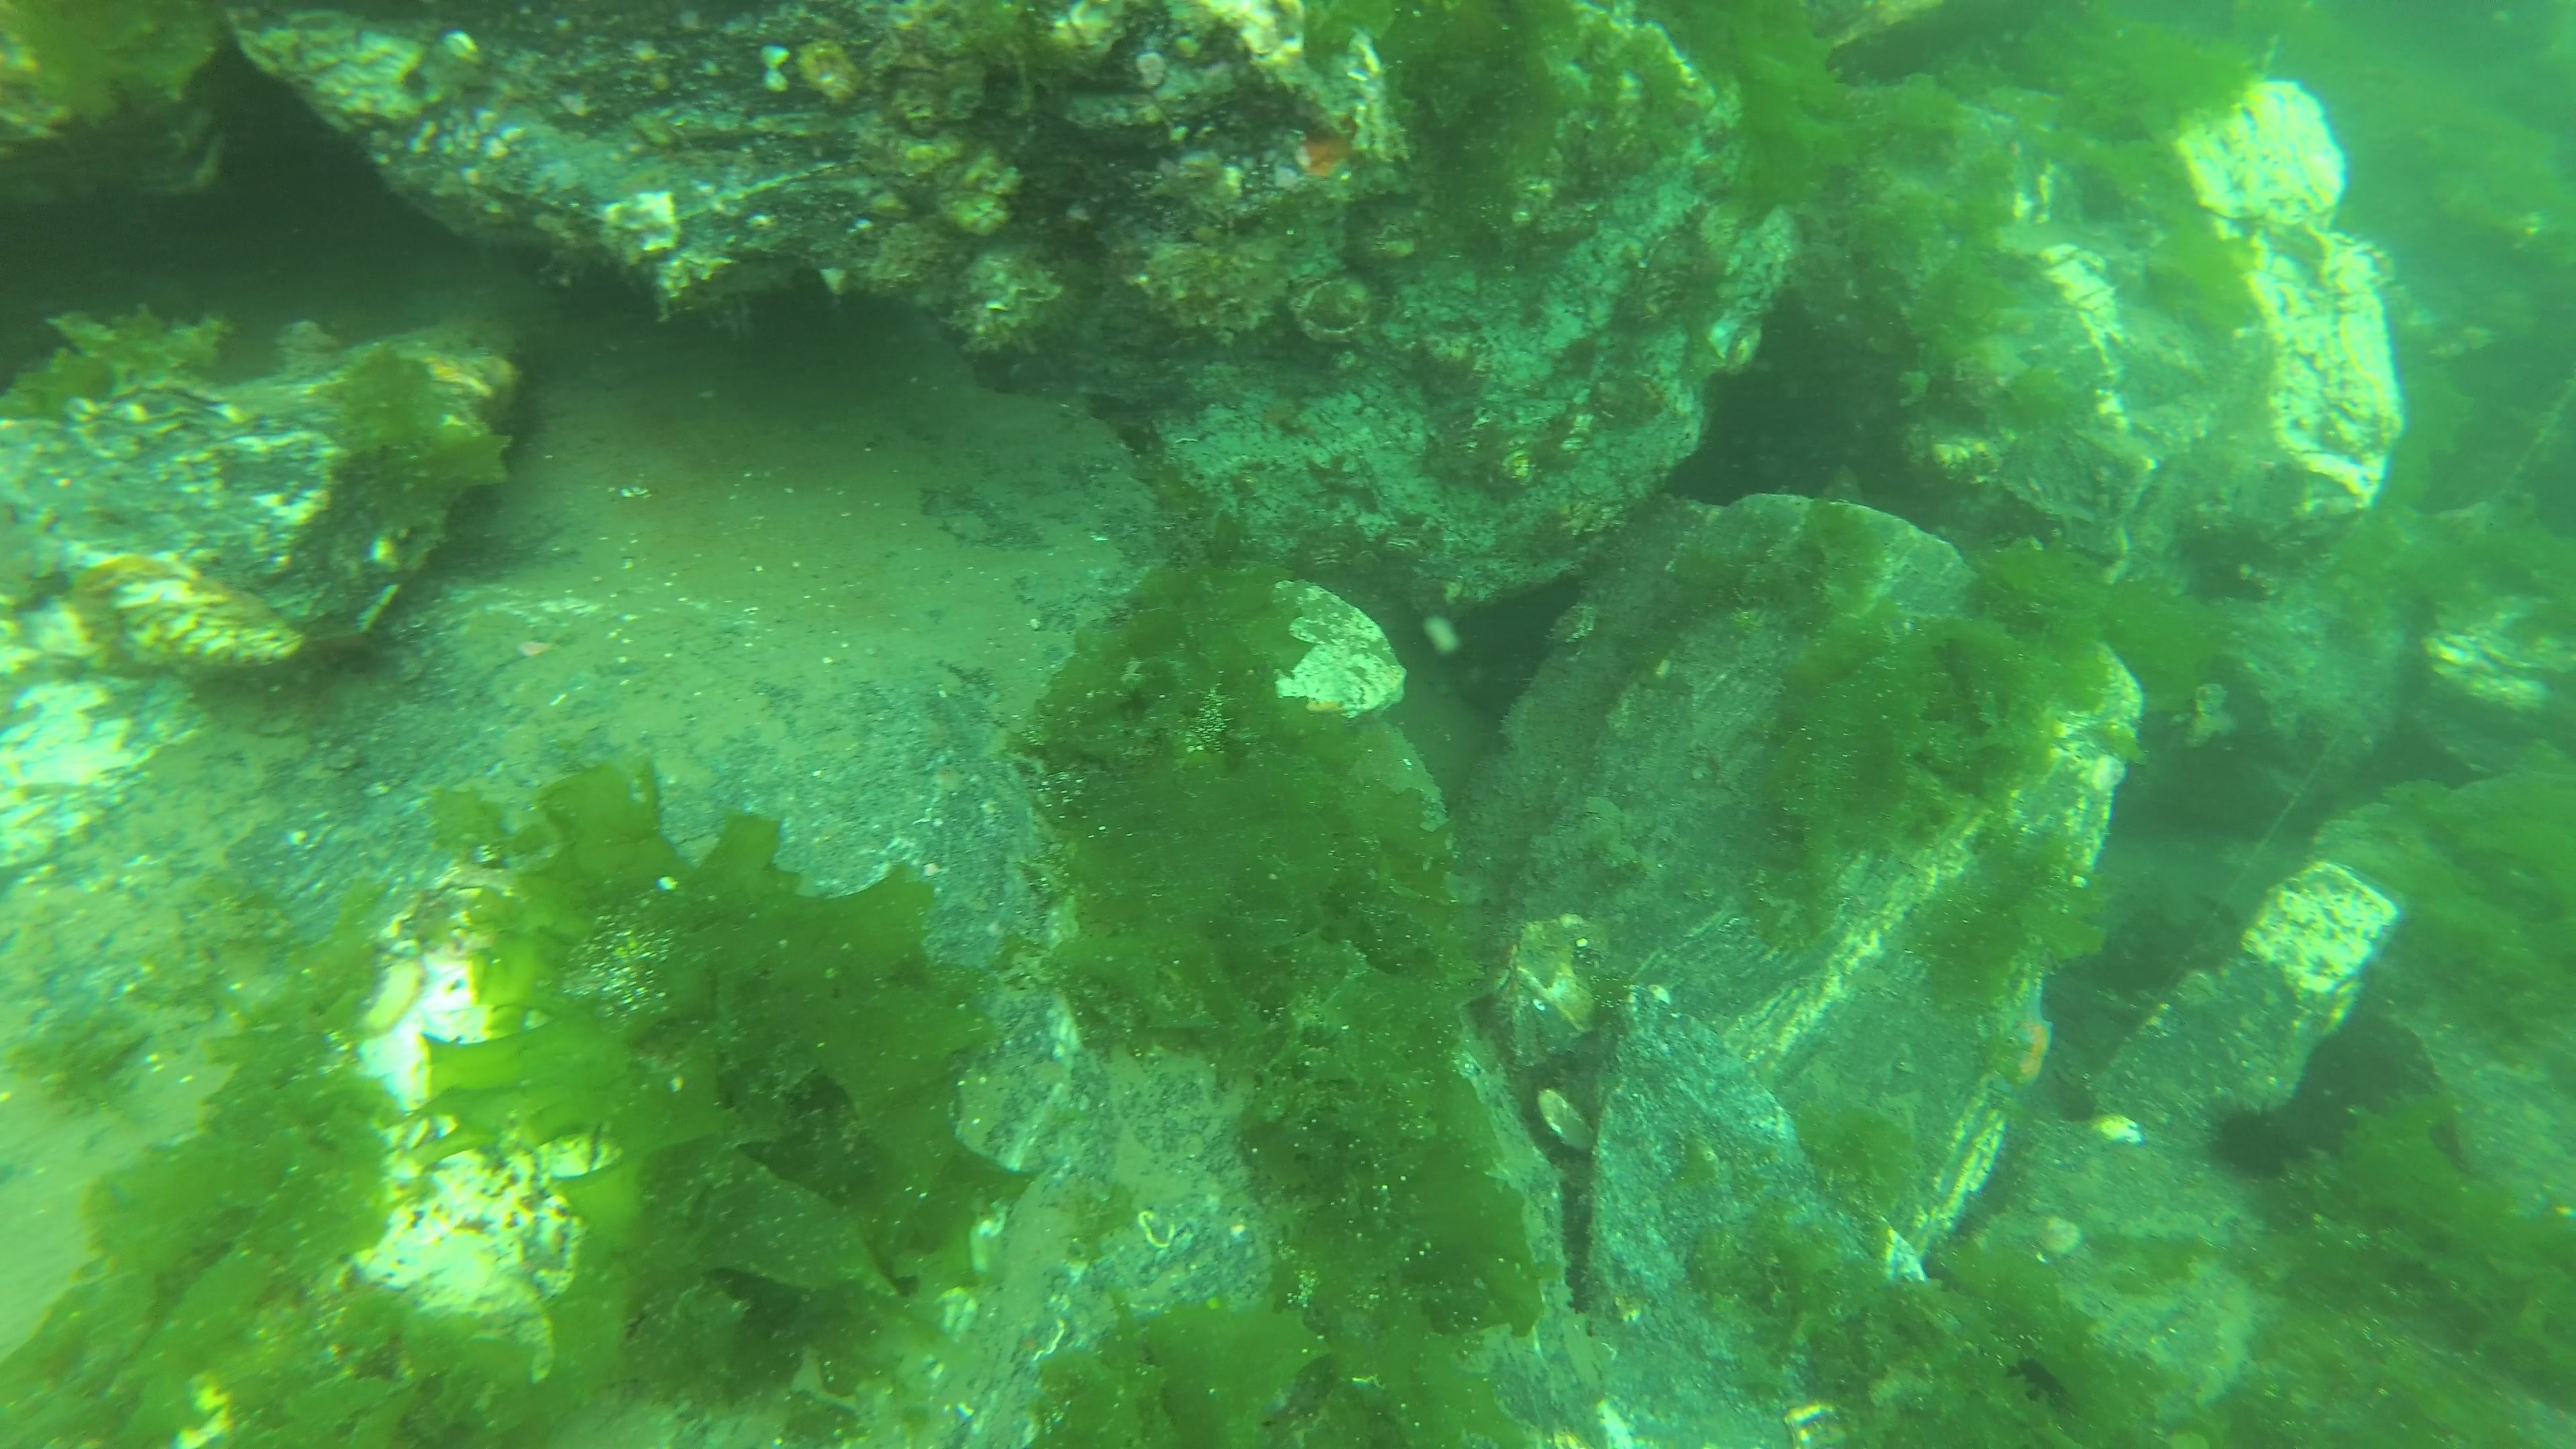echinus: (2210, 1097, 2300, 1184)
starfish: (2013, 978, 2054, 1088)
